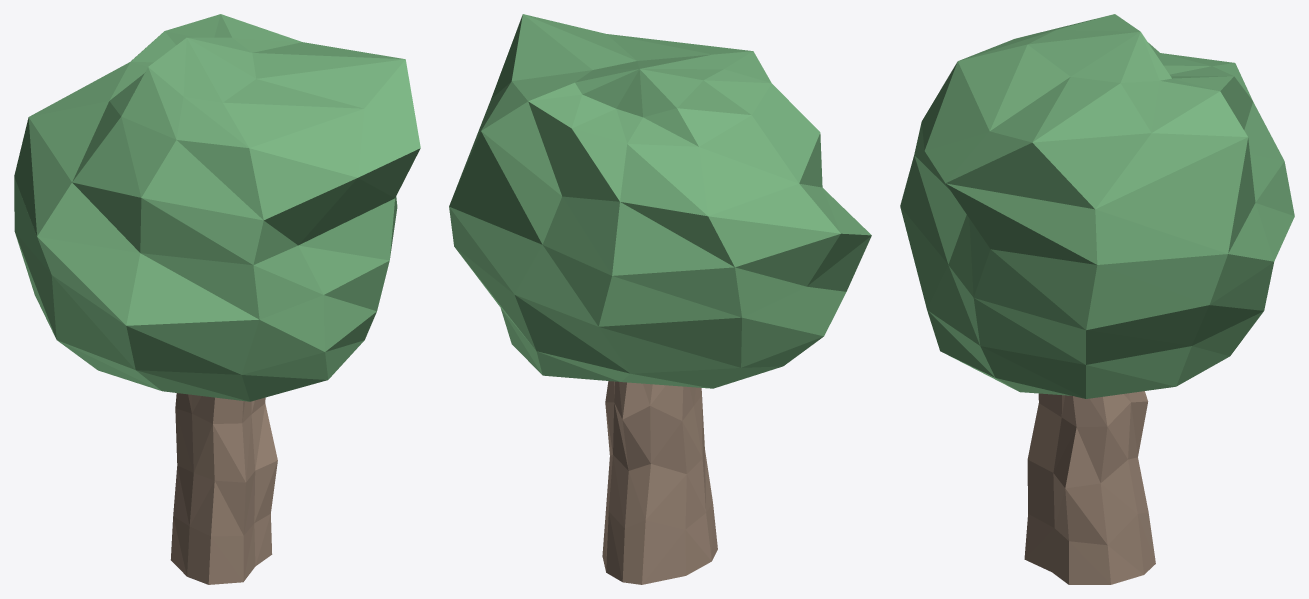
Rendered from GenericTree1.fbx.
The picture shows the model from 3 angles, left to right: view 1: azimuth 30°, elevation 25°; view 2: azimuth 150°, elevation 25°; view 3: azimuth 270°, elevation 25°; orthographic projection. The views are drawn at different scales.
Visible parts, largest first — view 1: polySurface1, polySurface2; view 2: polySurface1, polySurface2; view 3: polySurface1, polySurface2.
Boxes of the visible parts, x1,y1,x2,y2 form: polySurface1: (14, 14, 420, 401); polySurface2: (170, 393, 277, 584); polySurface1: (449, 14, 871, 388); polySurface2: (602, 381, 717, 584); polySurface1: (900, 14, 1294, 398); polySurface2: (1024, 391, 1155, 584).
Size of the model in its own units: 9.95 by 13.36 by 9.07.
